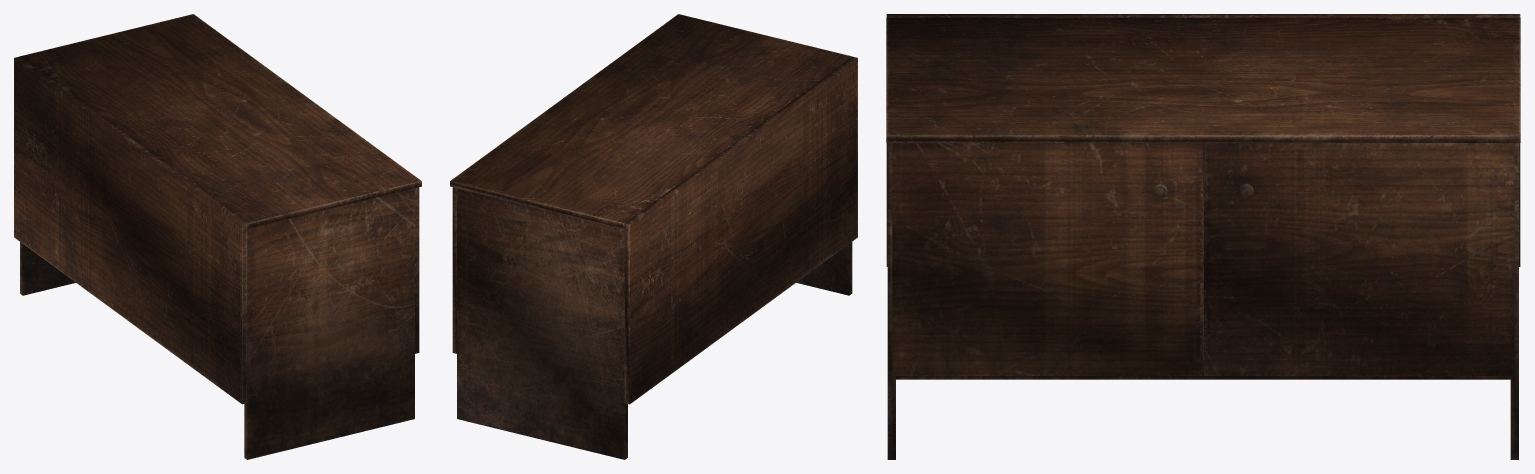
File: soviet_old_bedside.glb
3 renders of one model, left to right at view 1: azimuth 30°, elevation 25°; view 2: azimuth 150°, elevation 25°; view 3: azimuth 270°, elevation 25°, orthographic. The views are drawn at different scales.
Parts seen in each view (by area): view 1: 5_low, 2_low, 1_low, 6_low; view 2: 5_low, 2_low, 1_low, 4_low; view 3: 1_low, 6_low, 4_low, 2_low, 5_low, 3_low.
Boxes of the visible parts, <box> form: 5_low: <box>14,56,247,404</box>; 2_low: <box>20,188,414,459</box>; 1_low: <box>19,14,421,228</box>; 6_low: <box>415,187,419,353</box>; 5_low: <box>624,56,857,404</box>; 2_low: <box>457,188,852,459</box>; 1_low: <box>450,14,852,228</box>; 4_low: <box>452,187,456,353</box>; 1_low: <box>886,17,1520,142</box>; 6_low: <box>892,143,1202,375</box>; 4_low: <box>1204,143,1514,375</box>; 2_low: <box>887,143,1518,459</box>; 5_low: <box>886,14,1520,266</box>; 3_low: <box>896,257,1510,379</box>.
Bounding box in the file's own units: 0.5767 × 0.7033 × 1.23.
Materials: 1 (1 with a texture image).
